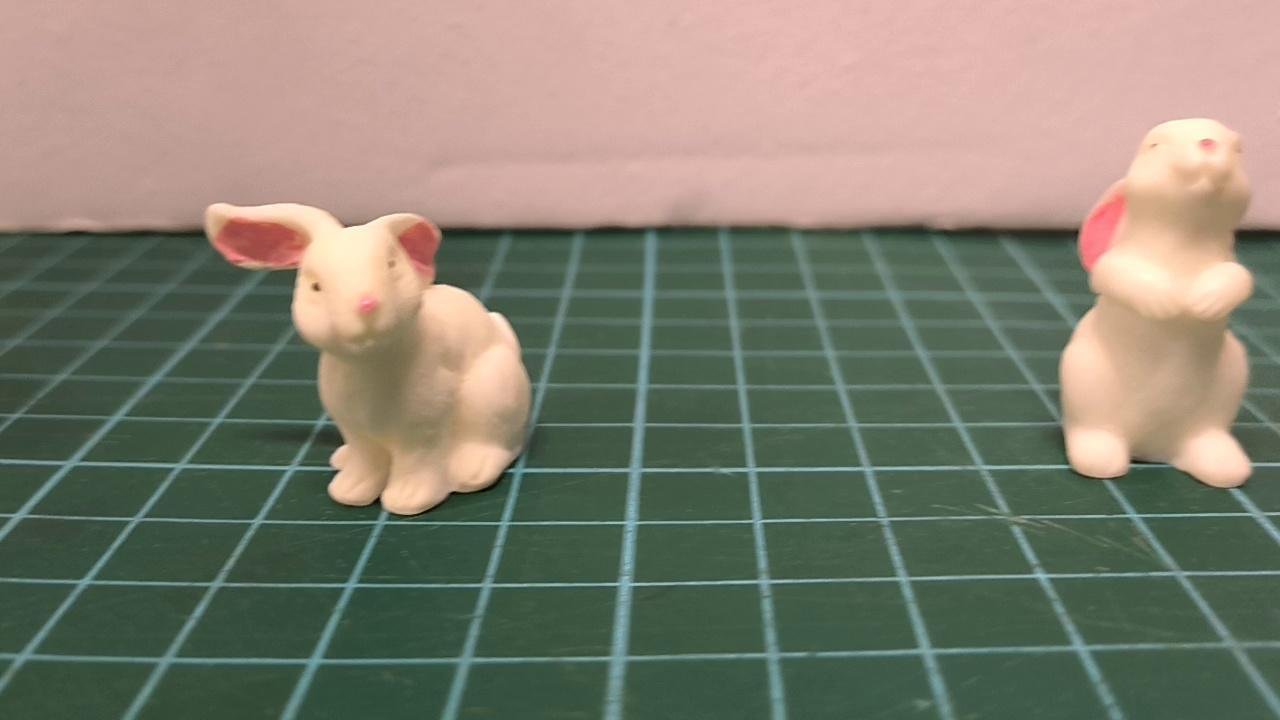pet: (208, 200, 529, 515), (1063, 119, 1253, 490)
